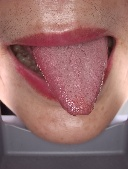tongue: (30, 47, 109, 117)
